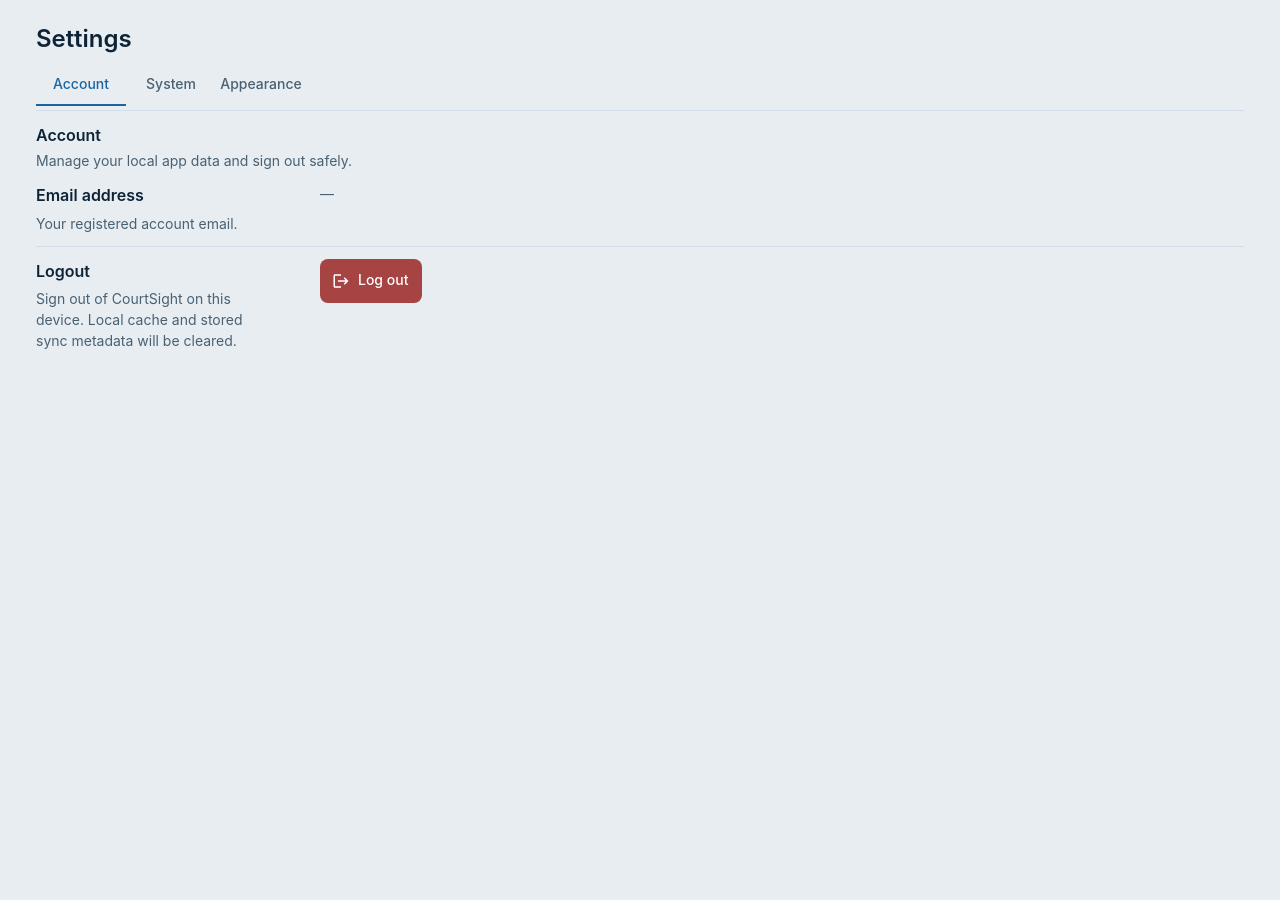
Test case: Settings Page › switches to System tab and shows system controls
This screenshot has width=1280, height=900.
Click the tab "System": (171, 84) top-left (126, 62), bottom-right (216, 106)
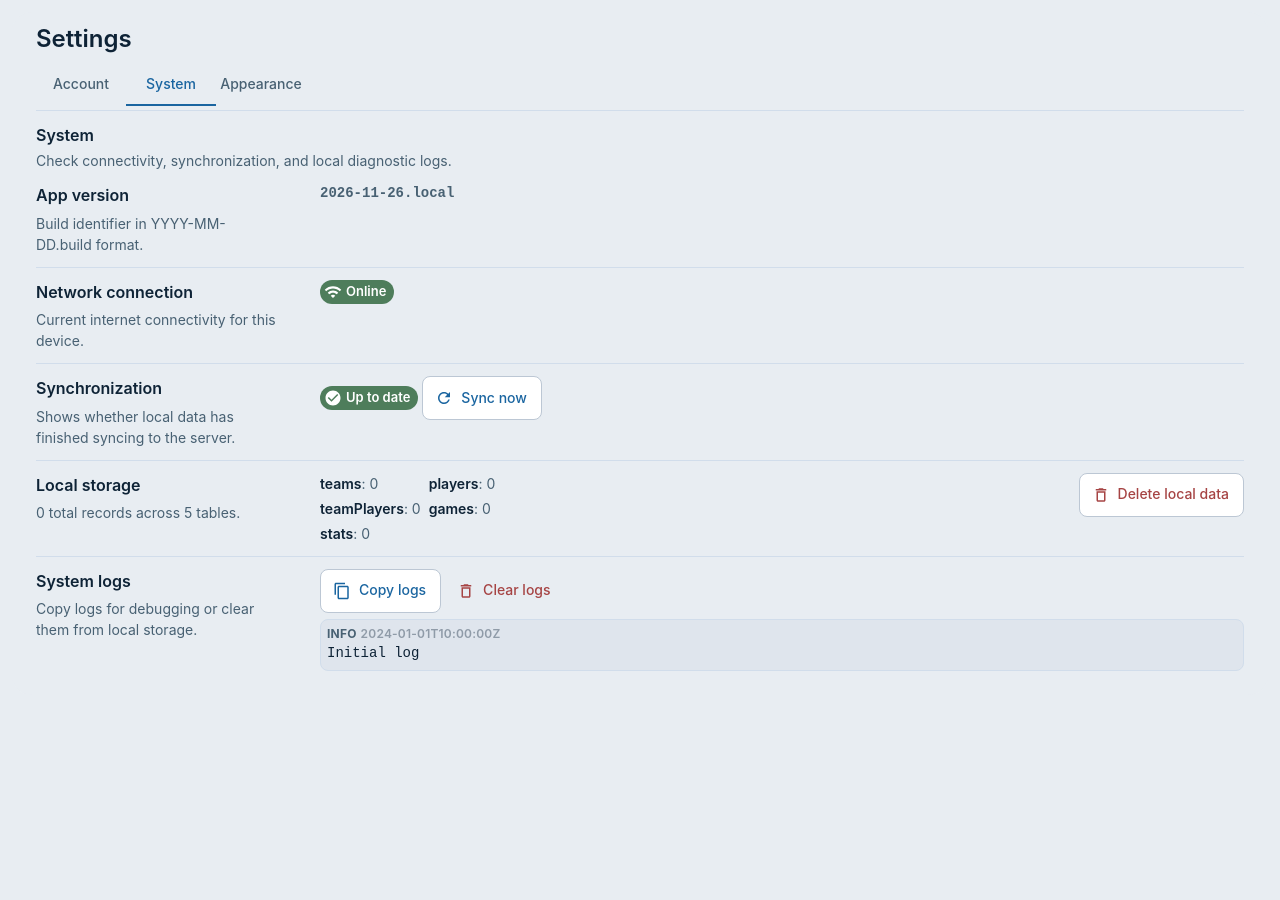
Result: the text "Network connection" is shown at top-left (36, 282), bottom-right (193, 302)
Result: the text "Synchronization" is shown at top-left (36, 378), bottom-right (162, 398)
Result: the text "Local storage" is shown at top-left (36, 475), bottom-right (141, 495)
